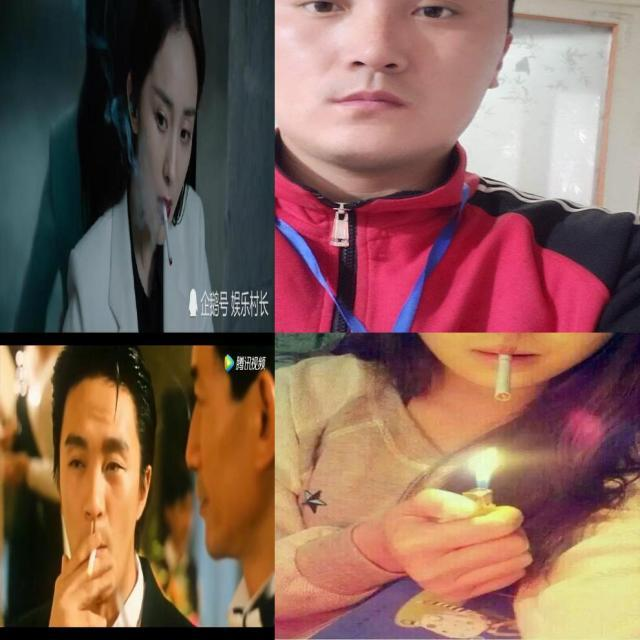smoking: (494, 353, 514, 401), (161, 197, 174, 269), (88, 546, 96, 578)
